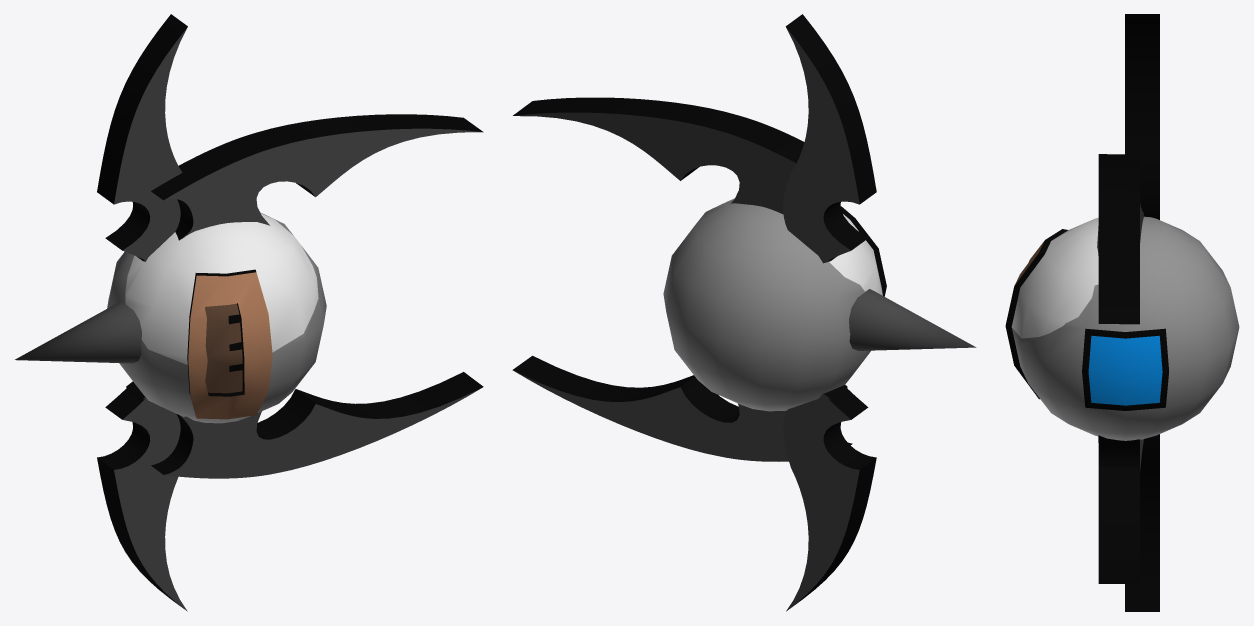
File: turret_5_3.glb
The picture shows the model from 3 angles, left to right: view 1: azimuth 30°, elevation 25°; view 2: azimuth 150°, elevation 25°; view 3: azimuth 270°, elevation 25°; orthographic projection. The views are drawn at different scales.
Visible parts, largest first — view 1: Turret3, Turret3.002, Turret3.001, Turret3.003, Turret3.004; view 2: Turret3, Turret3.002, Turret3.003, Turret3.001, Turret3.004; view 3: Turret3, Turret3.002, Turret3.003, Turret3.001, Turret3.004.
Part boxes in pixels (bbox=[...]): Turret3: bbox=[15, 212, 326, 423]; Turret3.002: bbox=[151, 114, 483, 240]; Turret3.001: bbox=[151, 372, 483, 478]; Turret3.003: bbox=[97, 14, 187, 261]; Turret3.004: bbox=[97, 381, 187, 611]; Turret3: bbox=[663, 198, 976, 411]; Turret3.002: bbox=[513, 97, 804, 214]; Turret3.003: bbox=[783, 14, 876, 263]; Turret3.001: bbox=[512, 355, 852, 461]; Turret3.004: bbox=[783, 385, 876, 611]; Turret3: bbox=[1005, 216, 1239, 440]; Turret3.002: bbox=[1097, 154, 1144, 324]; Turret3.003: bbox=[1125, 14, 1159, 219]; Turret3.001: bbox=[1098, 435, 1143, 583]; Turret3.004: bbox=[1125, 434, 1159, 611].
Size of the model in its own units: 1.47 by 1.8 by 0.6384.
